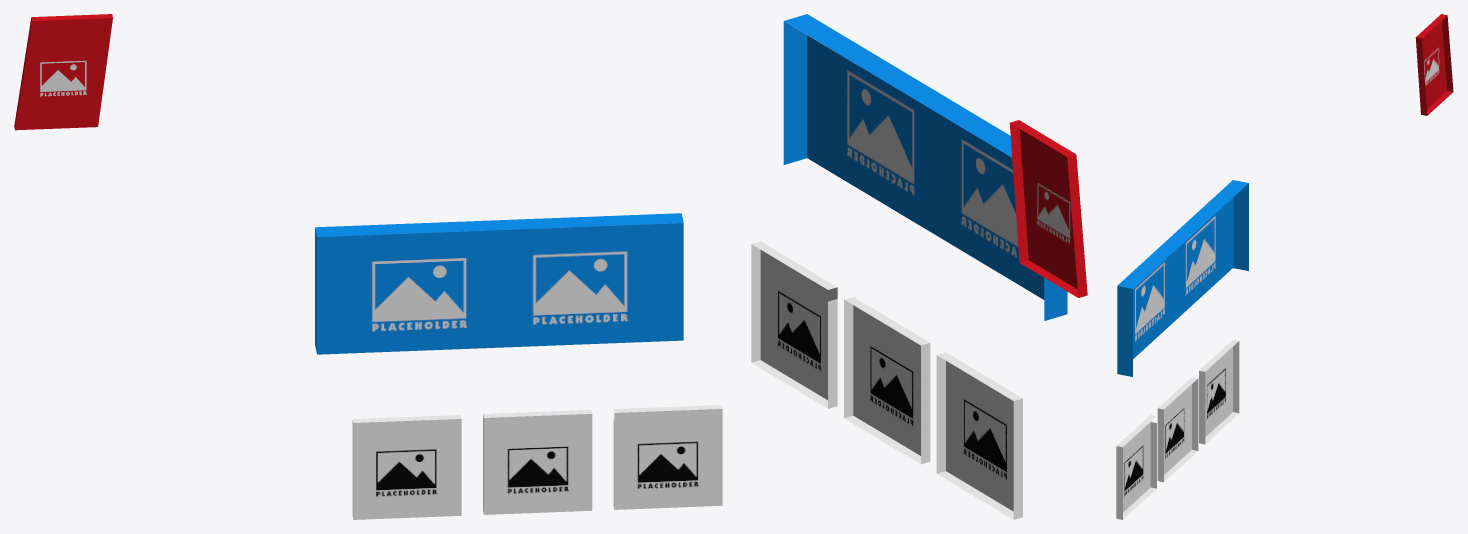
The model's file is rightBuildingSignage.glb.
3 views of the same model, side by side, from view 1: azimuth 30°, elevation 25°; view 2: azimuth 150°, elevation 25°; view 3: azimuth 270°, elevation 25° (orthographic). The views are drawn at different scales.
Parts seen in each view (by area): view 1: rightBuildingSignage; view 2: rightBuildingSignage; view 3: rightBuildingSignage.
Boxes of the visible parts, bbox=[...] form: rightBuildingSignage: bbox=[14, 14, 722, 519]; rightBuildingSignage: bbox=[751, 14, 1087, 519]; rightBuildingSignage: bbox=[1116, 14, 1453, 519].
Bounding box in the file's own units: 17.29 × 14.89 × 13.72.
Materials: 1 (1 with a texture image).
